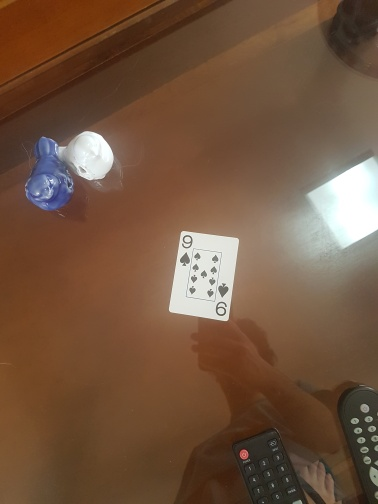nine: (169, 232, 240, 322)
